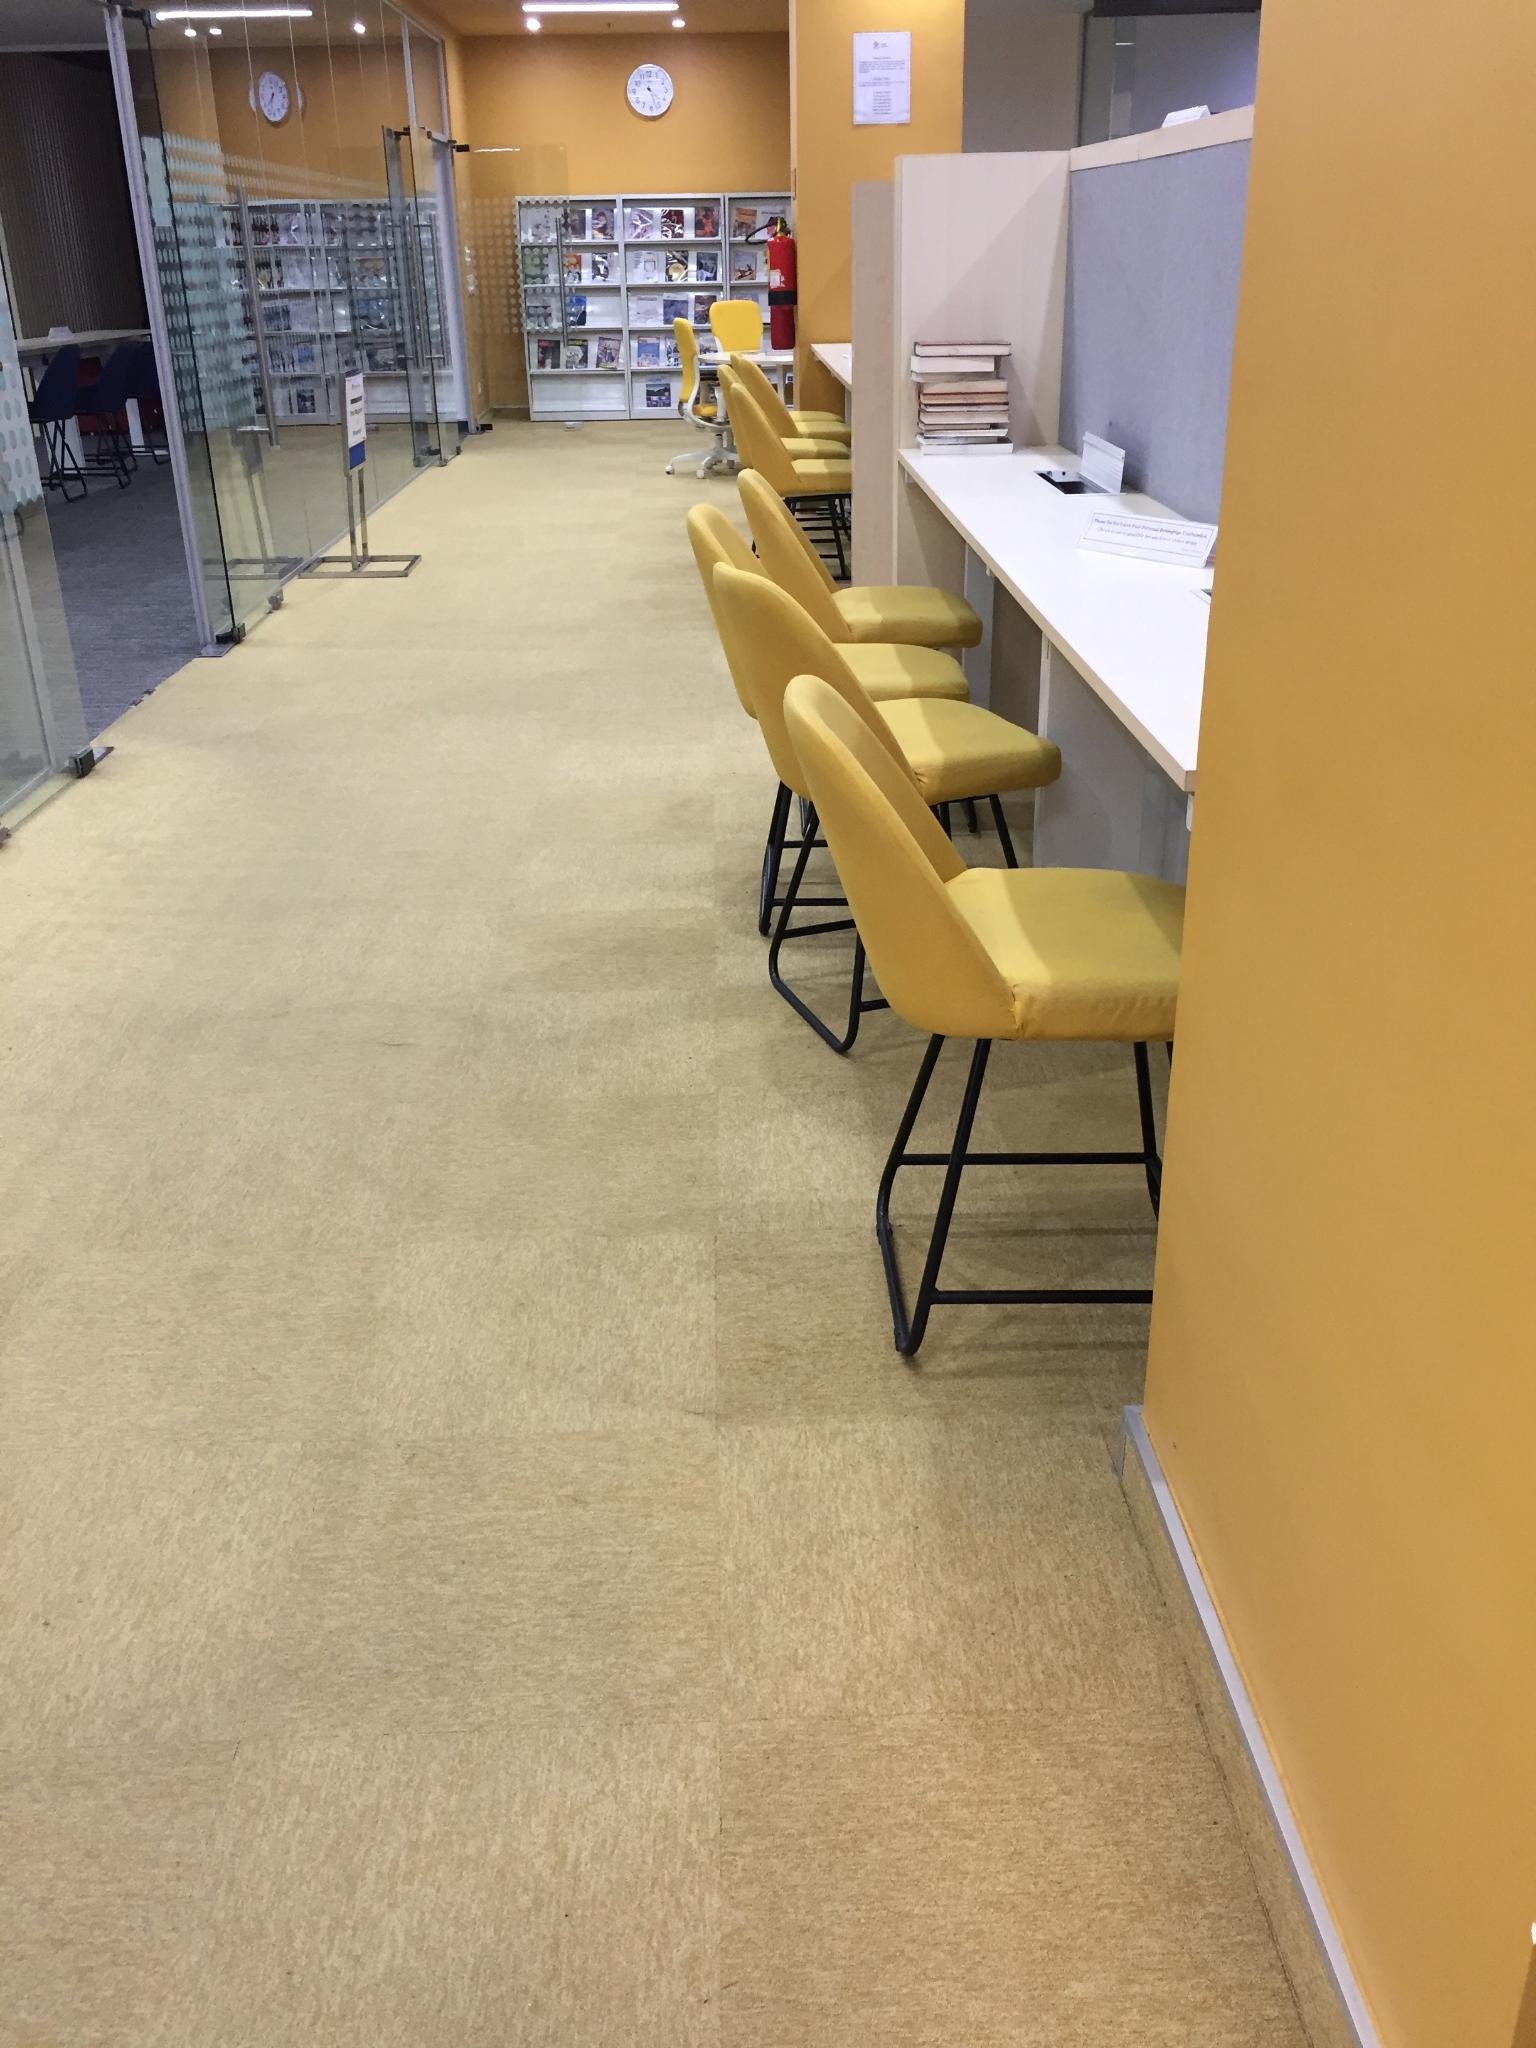chair: (778, 679, 1184, 1356), (707, 561, 1060, 1056), (707, 469, 979, 639), (716, 356, 852, 577), (668, 308, 731, 482), (713, 297, 786, 432)
